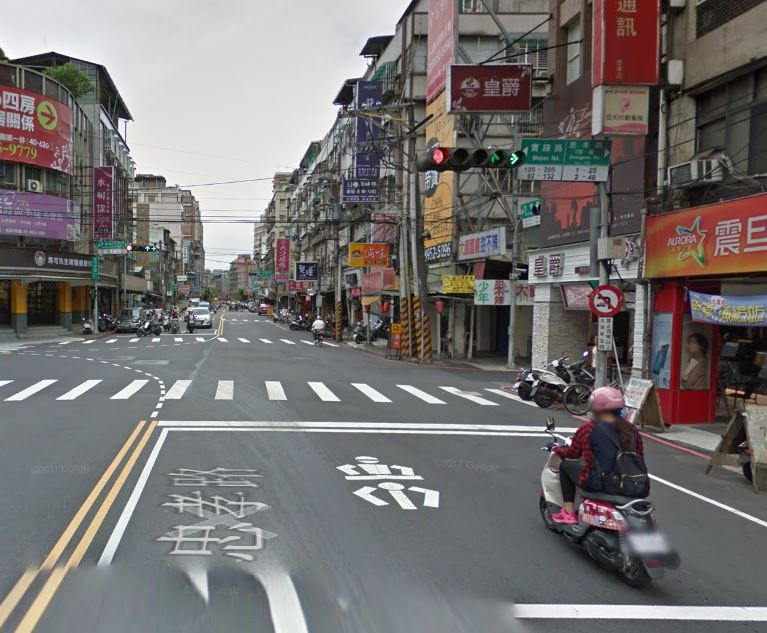Traffic_light_red: (423, 146, 489, 169)
